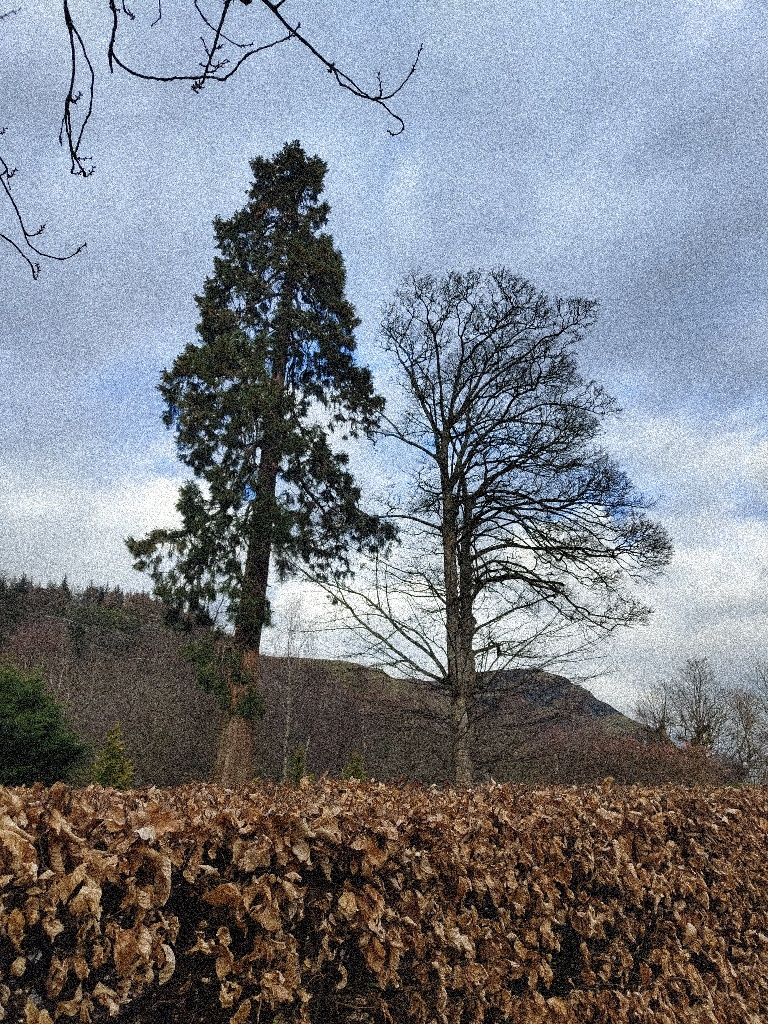Tree: (287, 260, 676, 786), (121, 134, 403, 786)
